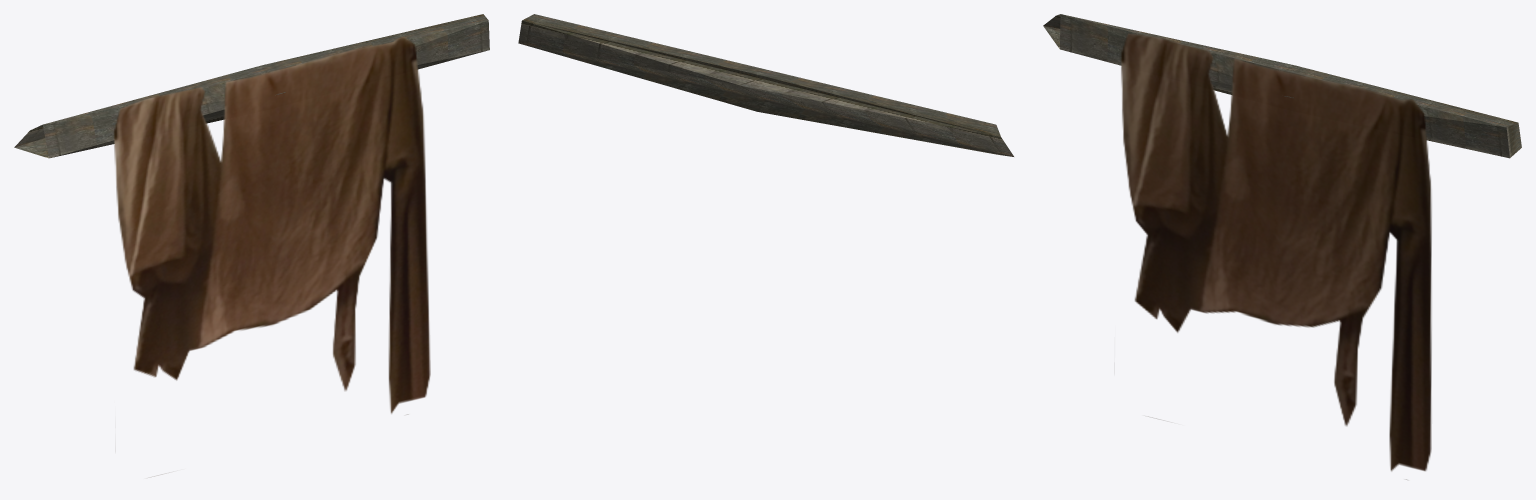
The model's file is clotheshanging.glb.
3 renders of one model, left to right at view 1: azimuth 30°, elevation 25°; view 2: azimuth 150°, elevation 25°; view 3: azimuth 330°, elevation 25°, orthographic. The views are drawn at different scales.
Parts seen in each view (by area): view 1: clotheshanging.png, Cylinder; view 2: Cylinder; view 3: clotheshanging.png, Cylinder.
Part boxes in pixels (<box>): clotheshanging.png: <box>113,36,430,476</box>; Cylinder: <box>14,14,489,158</box>; Cylinder: <box>518,14,1013,156</box>; clotheshanging.png: <box>1121,33,1431,479</box>; Cylinder: <box>1043,14,1521,158</box>.
Bounding box in the file's own units: 7.98 × 6.02 × 0.6251.
Materials: 2 (2 with a texture image).
